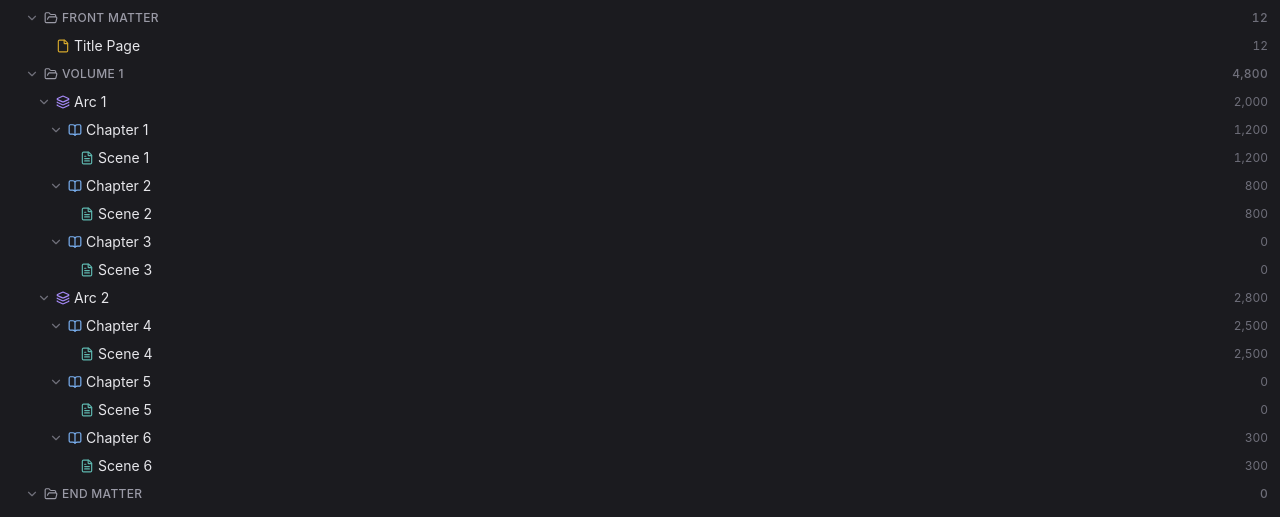
Test: ManuscriptTree › selects documents on click but never sections
Click the element showing "Scene 1 1,200": (124, 158) [4, 144, 1276, 172]
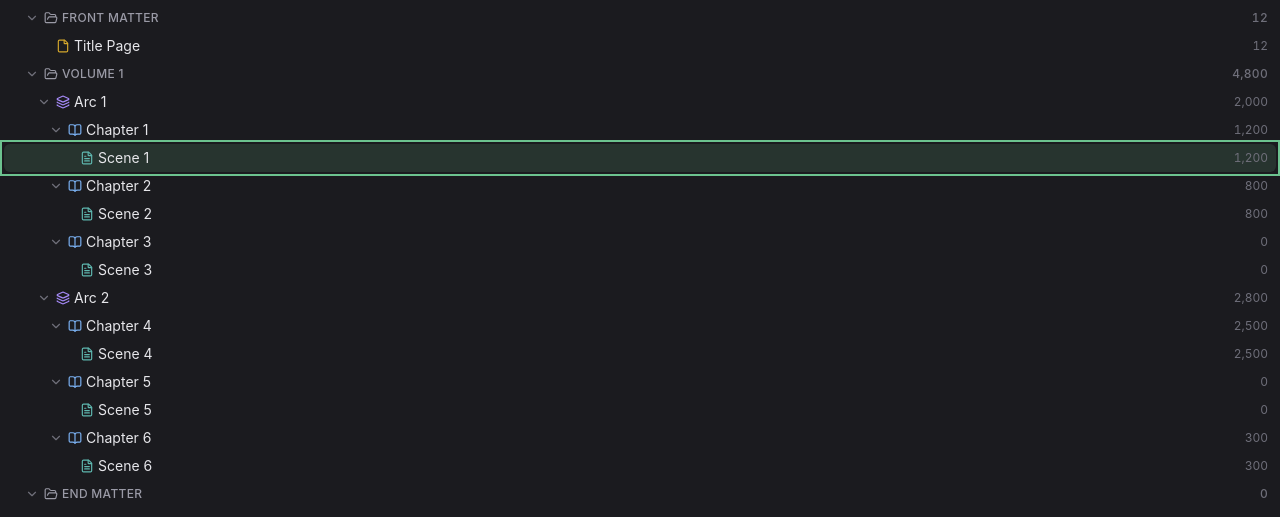
Check: the list item "Scene 1" is selected, box [4, 144, 1276, 172]
Click the element showing "Volume 1 4,800": (93, 74) [24, 66, 1268, 82]
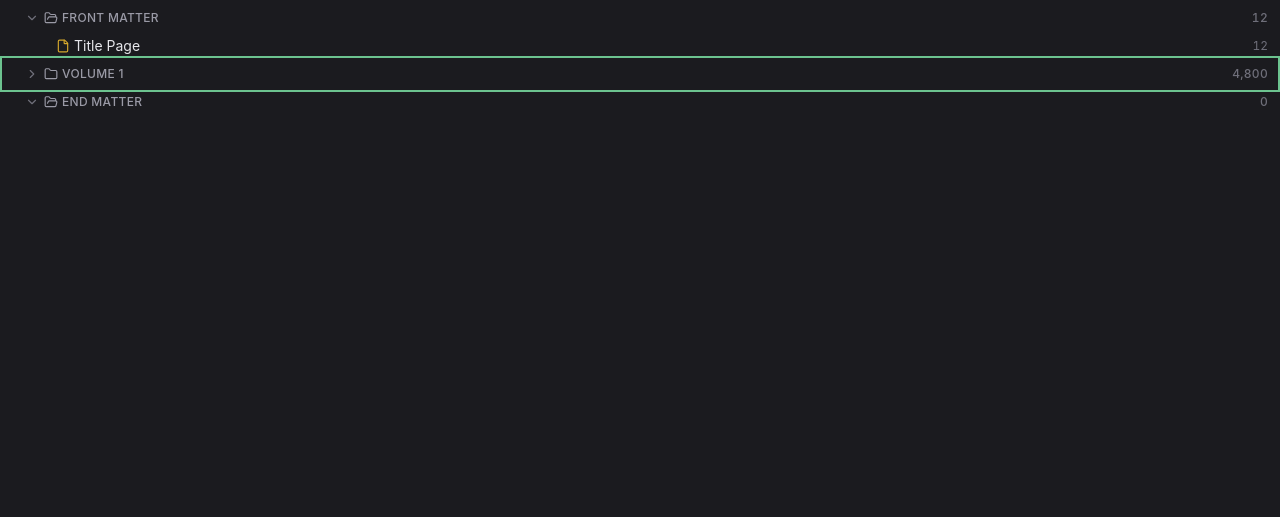
Check: the list item "Volume 1" is collapsed, box [24, 66, 1268, 82]
